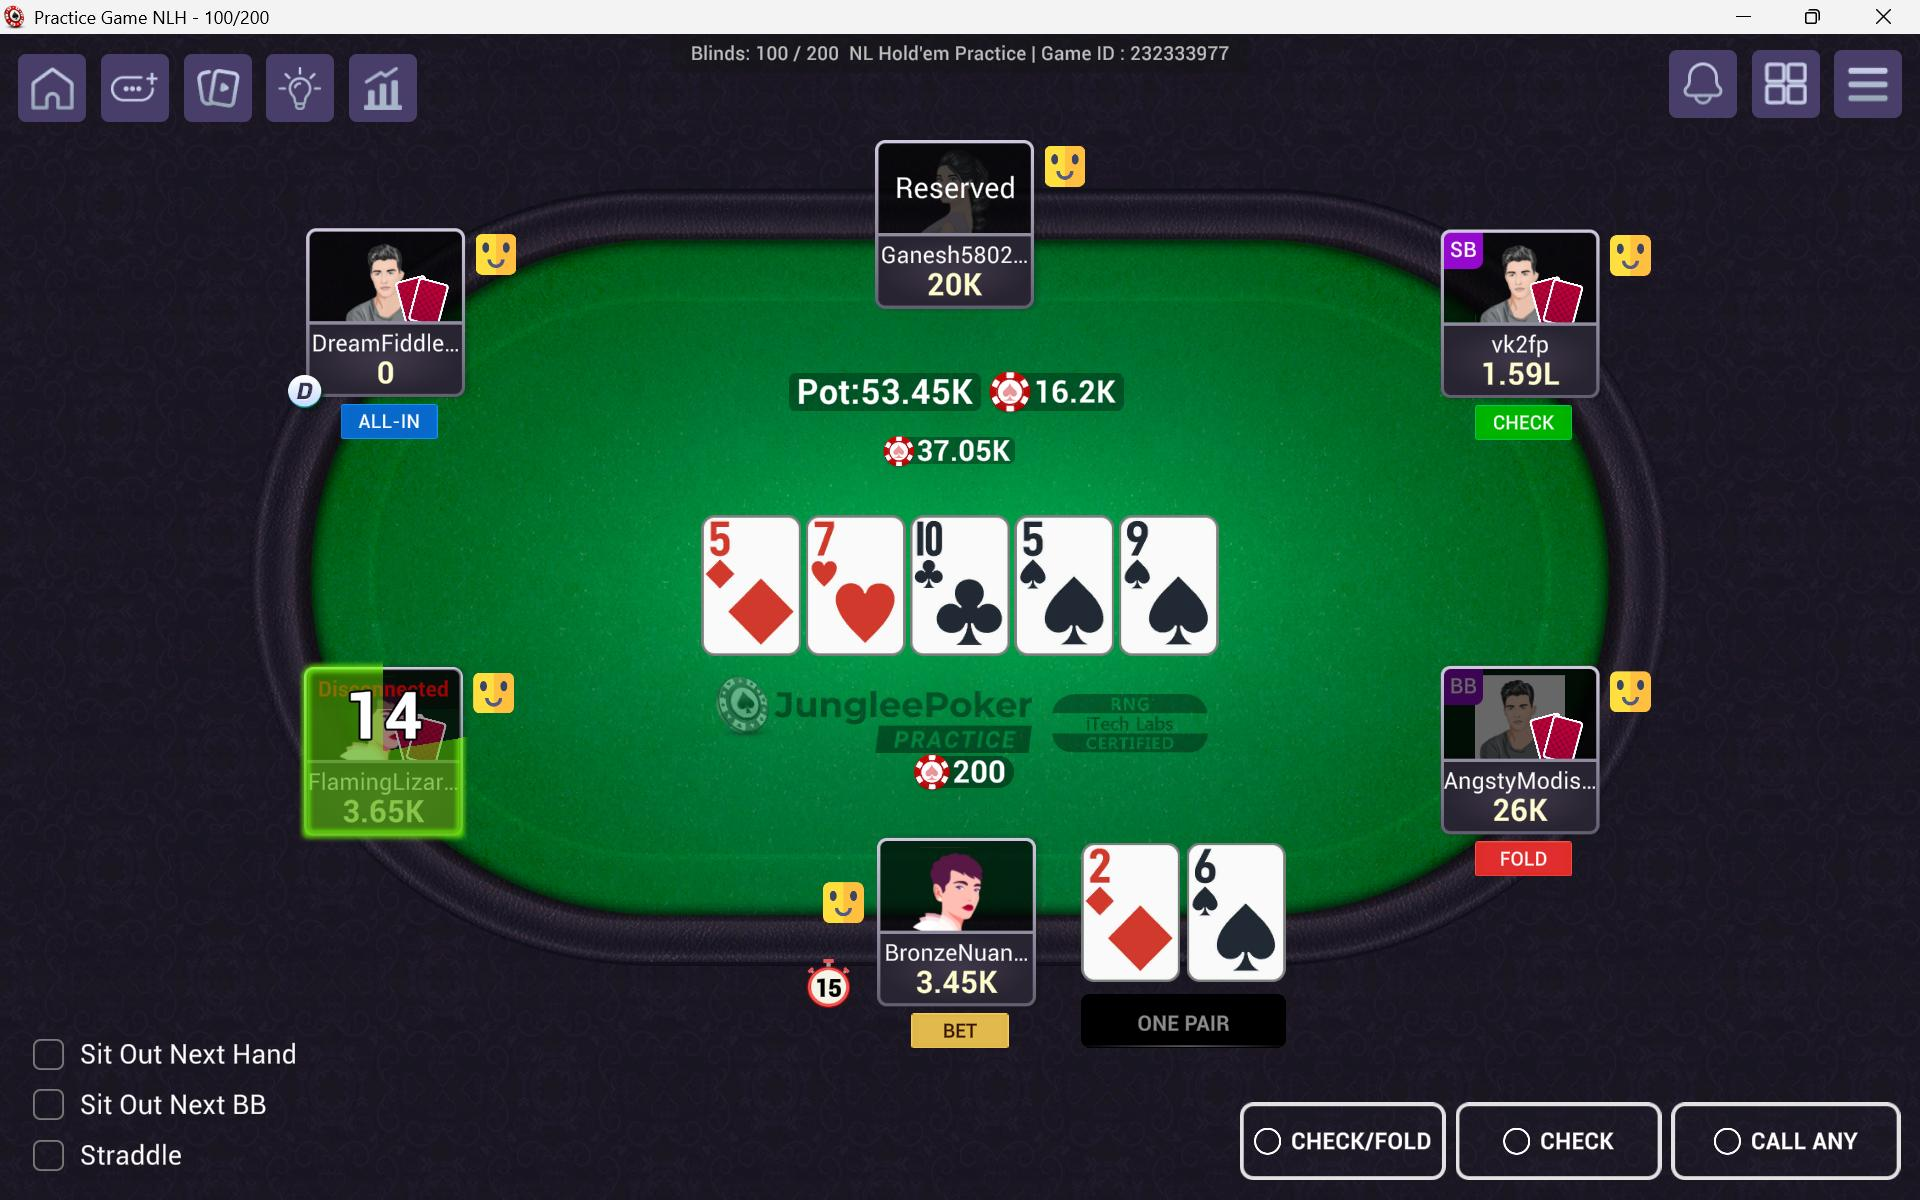card1_rank: (1080, 842, 1142, 892)
card1_suite_diamond: (1108, 900, 1182, 980)
card2_rank: (1188, 845, 1248, 892)
card2_suite_spades: (1215, 905, 1285, 983)
flop1_rank: (705, 518, 775, 558)
flop1_suite_diamond: (723, 575, 802, 650)
flop2_rank: (805, 520, 880, 560)
flop2_suite_heart: (830, 575, 902, 655)
flop3_rank: (908, 520, 982, 568)
flop3_suite_club: (925, 575, 1008, 658)
my_bet: (915, 758, 1022, 790)
my_stack: (900, 965, 1015, 1002)
position_BB: (1442, 668, 1488, 705)
position_SB: (1440, 230, 1485, 268)
river_rank: (1120, 512, 1180, 565)
river_suite_spades: (1142, 572, 1218, 652)
total_pot: (788, 375, 1128, 412)
turn_rank: (1017, 518, 1062, 565)
turn_suite_spades: (1040, 568, 1112, 655)
villian1_name: (310, 763, 460, 798)
villian1_stack: (317, 795, 435, 835)
villian2_name: (312, 332, 468, 358)
villian2_stack: (330, 350, 425, 388)
villian3_name: (875, 242, 1030, 270)
villian3_stack: (912, 268, 985, 302)
villian4_name: (1450, 325, 1600, 358)
villian4_stack: (1465, 355, 1572, 395)
